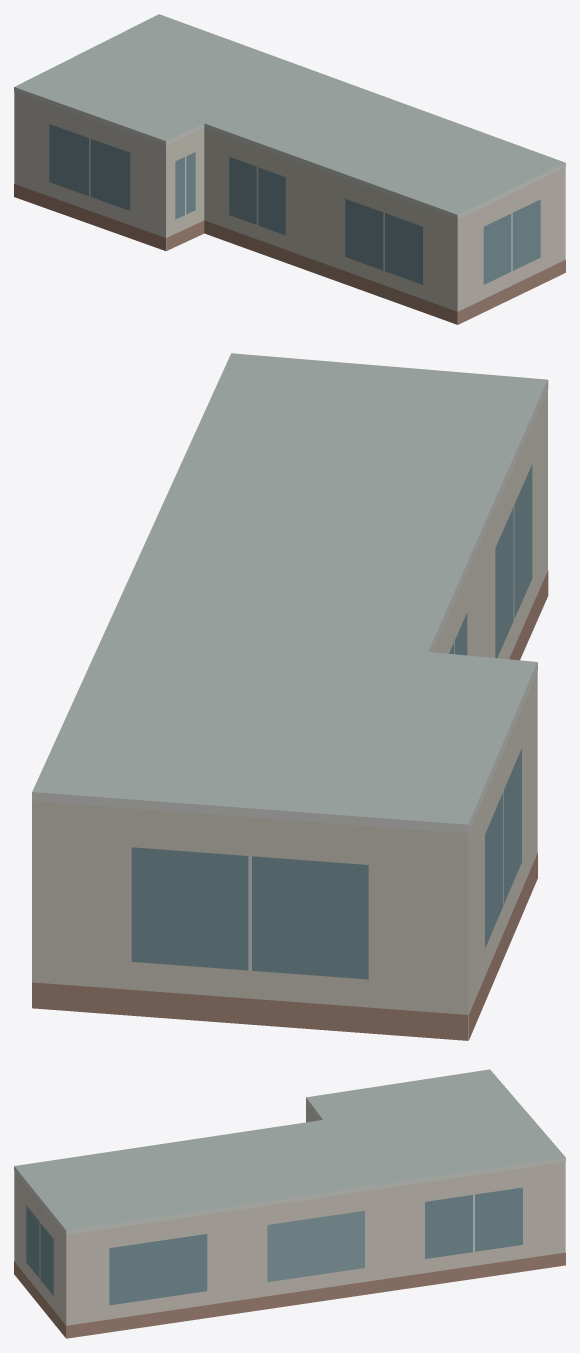
File: survey-upis-32618706.glb
3 views of the same model, one above another, from view 1: azimuth 30°, elevation 25°; view 2: azimuth 150°, elevation 25°; view 3: azimuth 270°, elevation 25° (orthographic). The views are drawn at different scales.
Parts seen in each view (by area): view 1: survey-upis-32618706.tmp; view 2: survey-upis-32618706.tmp; view 3: survey-upis-32618706.tmp.
Boxes of the visible parts, <box> form: survey-upis-32618706.tmp: <box>14,14,565,324</box>; survey-upis-32618706.tmp: <box>32,353,548,1040</box>; survey-upis-32618706.tmp: <box>14,1069,565,1338</box>.
Size of the model in its own units: 9.77 by 3.05 by 14.12.
